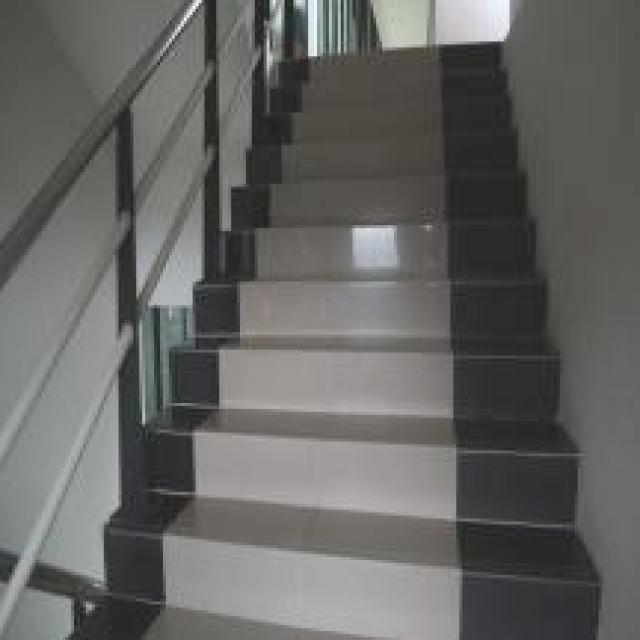upstair: (274, 93, 511, 564)
